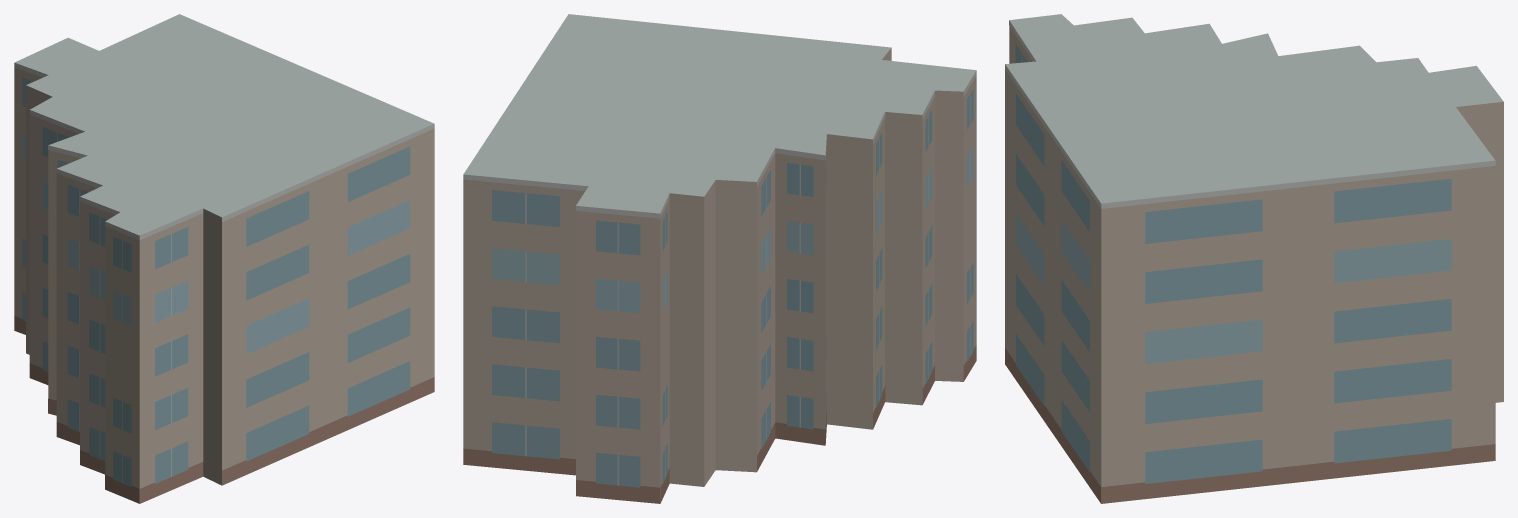
The model's file is survey-upis-32488108.glb.
3 views of the same model, side by side, from view 1: azimuth 30°, elevation 25°; view 2: azimuth 150°, elevation 25°; view 3: azimuth 270°, elevation 25° (orthographic). The views are drawn at different scales.
Parts seen in each view (by area): view 1: survey-upis-32488108.tmp; view 2: survey-upis-32488108.tmp; view 3: survey-upis-32488108.tmp.
Boxes of the visible parts, x1,y1,x2,y2 form: survey-upis-32488108.tmp: (14,14,434,503); survey-upis-32488108.tmp: (463,14,976,503); survey-upis-32488108.tmp: (1005,14,1503,503).
Bounding box in the file's own units: 18.84 × 13.9 × 20.94.
